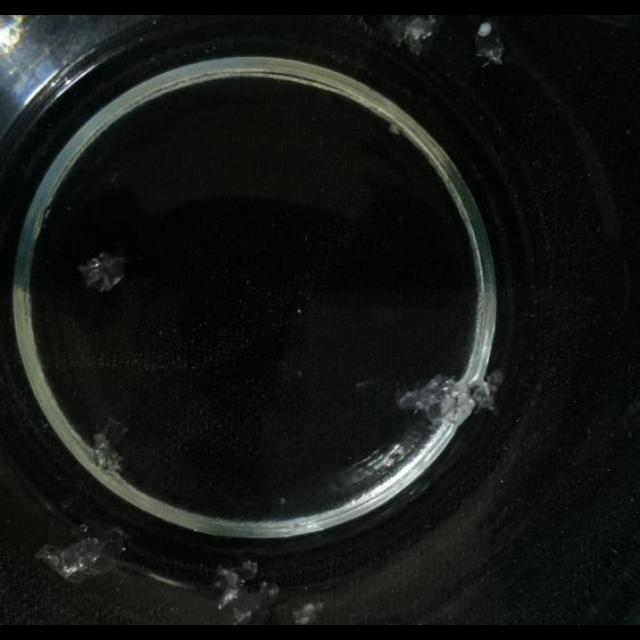Fibre: (401, 370, 499, 428), (34, 526, 126, 584), (209, 560, 275, 624), (77, 252, 127, 292), (90, 431, 126, 474), (474, 18, 506, 64), (388, 122, 404, 136)
